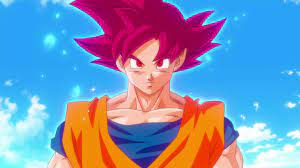Songoku: (112, 3, 188, 93)
